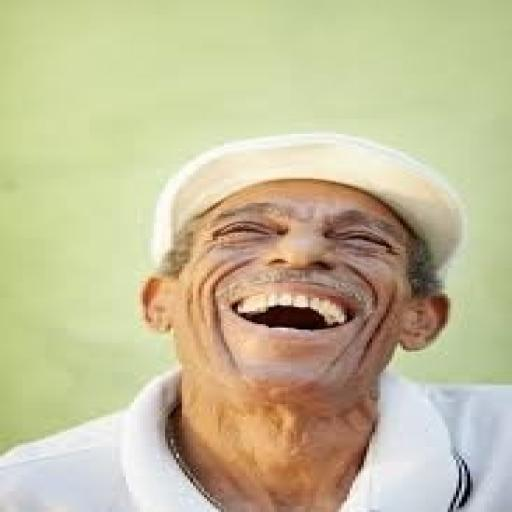laughing: (0, 127, 509, 510)
